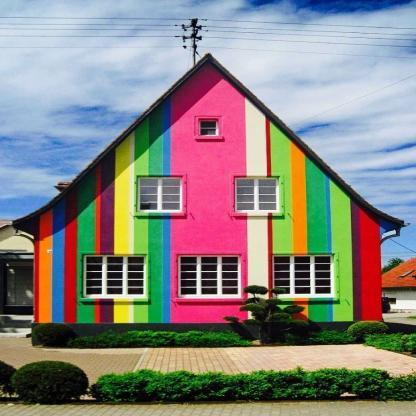Building Outline: (11, 52, 411, 346)
Dont: (32, 284, 395, 350)
Facade: (80, 180, 335, 346)
Floor: (34, 161, 380, 237)
Floor Slab: (35, 237, 380, 241), (105, 157, 310, 160)
Ground Floor: (35, 241, 380, 346)
Sill: (266, 298, 342, 302), (171, 298, 247, 302), (78, 298, 151, 302), (230, 212, 285, 216), (132, 212, 187, 216), (194, 136, 223, 139)
Top Floor: (105, 60, 310, 157)
Window: (272, 255, 335, 298), (83, 255, 146, 298), (177, 255, 240, 298), (236, 177, 279, 212), (138, 177, 181, 212), (199, 120, 218, 136)
Window Outline: (173, 251, 246, 298), (79, 251, 151, 298), (269, 251, 340, 298), (133, 173, 186, 212), (231, 173, 284, 212), (195, 116, 222, 136)
